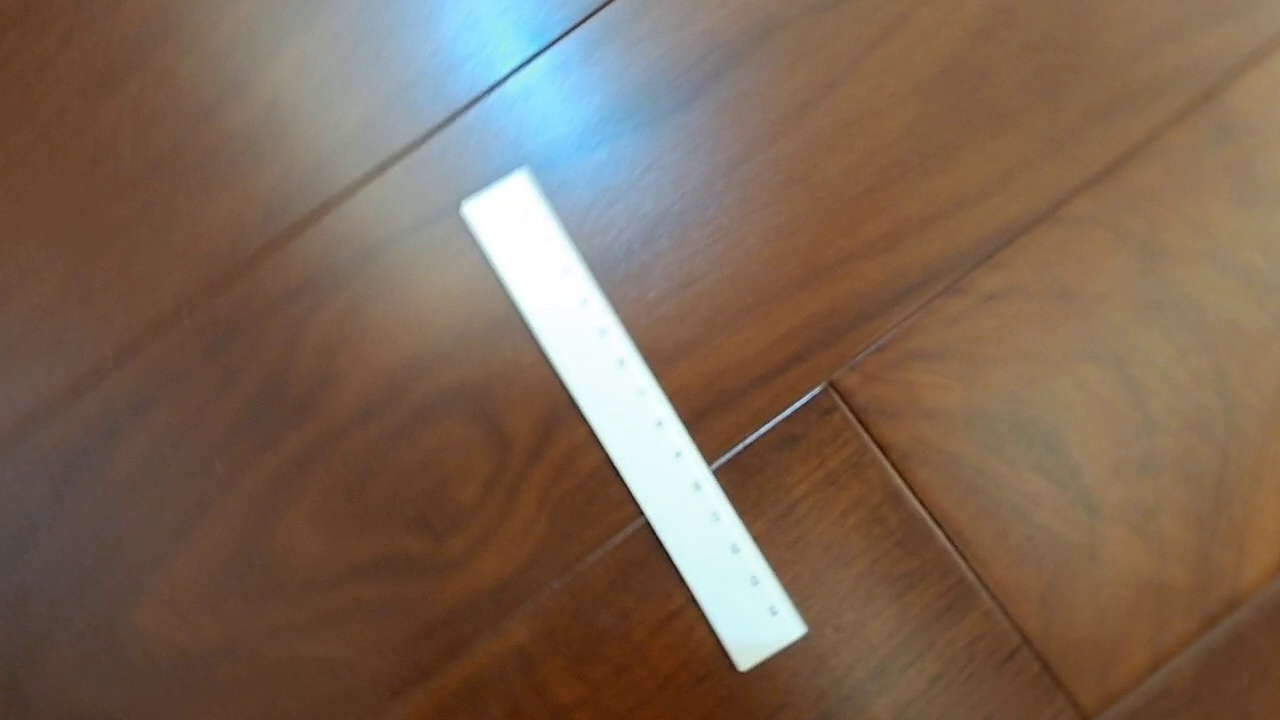ruler: (456, 163, 811, 675)
